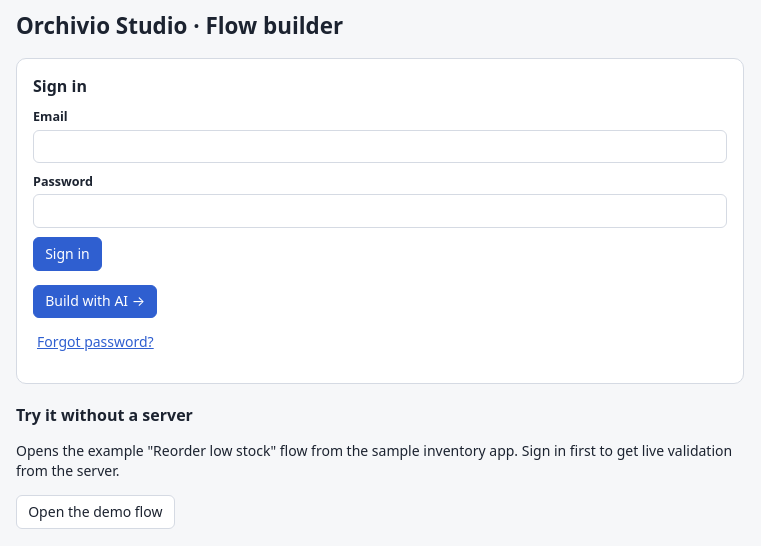
Test: App › signs in and lists organizations
In the field labelled "Email": (380, 146) [33, 130, 727, 163], type "a@b.c"
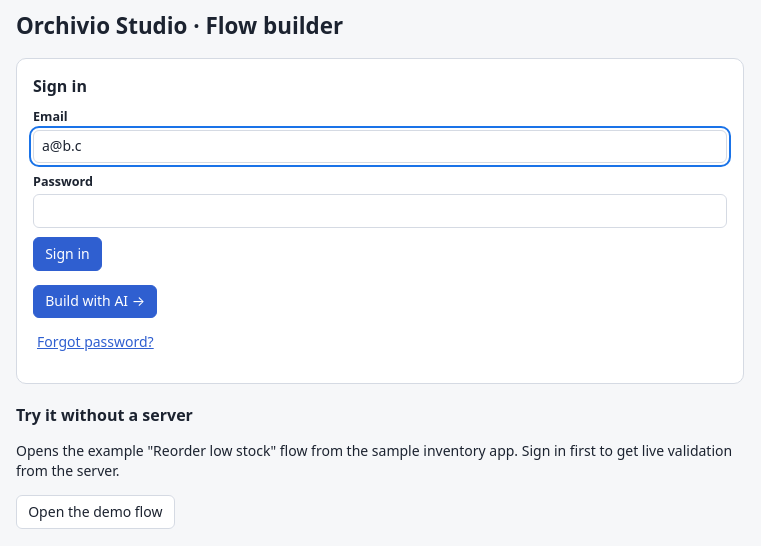
In the password field labelled "Password": (380, 211) [33, 194, 727, 228], type "a long passphrase"
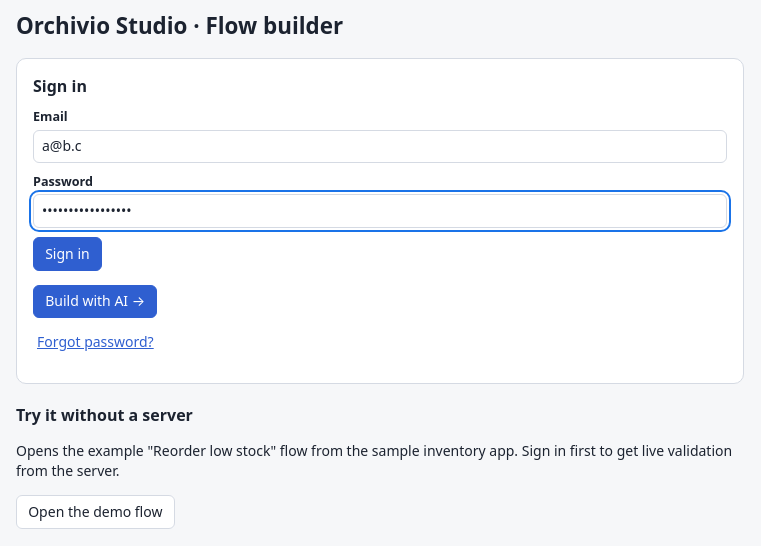
Click the button "Sign in": (67, 254) [33, 237, 102, 271]
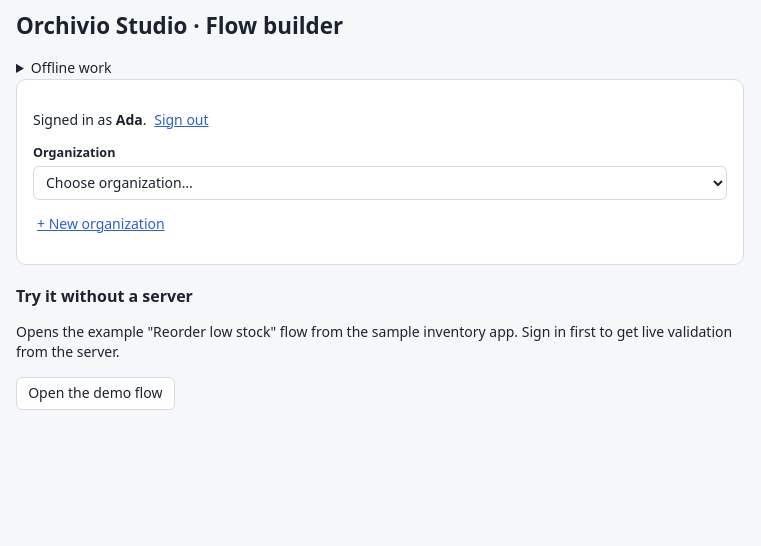
Check: the text "Ada" is shown, box [116, 110, 143, 129]
